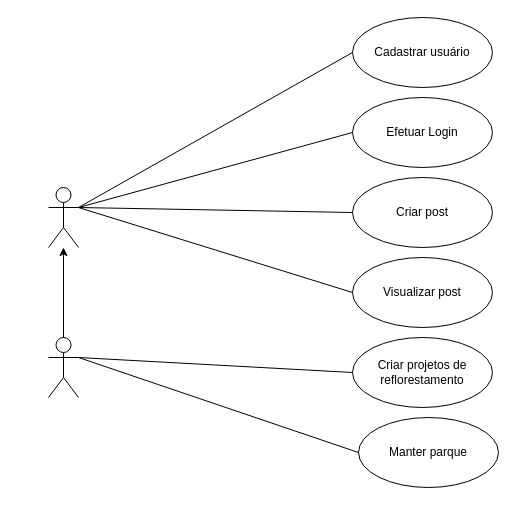
Some shapes in this 516 by 505 pixel diagram are drawn without their labels. Each missing label, with the centre of its shape:
"Gestor de parque" goes at (63,367).
"Visitante" goes at (63,217).
